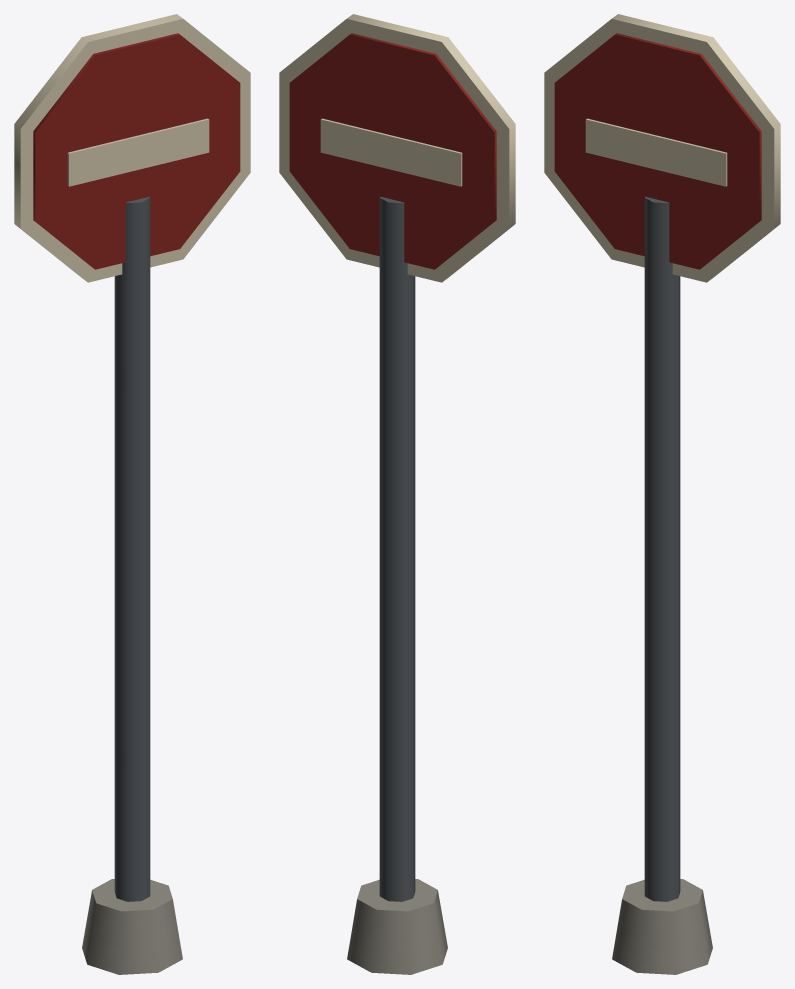
The model's file is sign-stop.glb.
The picture shows the model from 3 angles, left to right: view 1: azimuth 30°, elevation 25°; view 2: azimuth 150°, elevation 25°; view 3: azimuth 330°, elevation 25°; orthographic projection.
Visible parts, largest first — view 1: _MeshInstance3D_70, _MeshInstance3D_67, _MeshInstance3D_69, _MeshInstance3D_68, _MeshInstance3D_71; view 2: _MeshInstance3D_70, _MeshInstance3D_67, _MeshInstance3D_69, _MeshInstance3D_68, _MeshInstance3D_71; view 3: _MeshInstance3D_70, _MeshInstance3D_67, _MeshInstance3D_69, _MeshInstance3D_68, _MeshInstance3D_71.
Boxes of the visible parts, left/top/right/bottom form: _MeshInstance3D_70: left=33, top=33, right=240, bottom=269; _MeshInstance3D_67: left=114, top=196, right=150, bottom=901; _MeshInstance3D_69: left=14, top=14, right=250, bottom=282; _MeshInstance3D_68: left=82, top=879, right=182, bottom=974; _MeshInstance3D_71: left=67, top=118, right=209, bottom=186; _MeshInstance3D_70: left=289, top=33, right=496, bottom=269; _MeshInstance3D_67: left=379, top=196, right=415, bottom=901; _MeshInstance3D_69: left=279, top=14, right=515, bottom=282; _MeshInstance3D_68: left=347, top=879, right=447, bottom=974; _MeshInstance3D_71: left=320, top=118, right=462, bottom=186; _MeshInstance3D_70: left=554, top=33, right=761, bottom=269; _MeshInstance3D_67: left=644, top=196, right=680, bottom=901; _MeshInstance3D_69: left=544, top=14, right=780, bottom=282; _MeshInstance3D_68: left=612, top=879, right=712, bottom=974; _MeshInstance3D_71: left=585, top=118, right=727, bottom=186.
Size of the model in its own units: 1.02 by 3.91 by 0.4.
